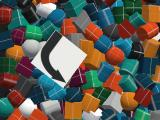Left: (31, 30, 87, 88)
